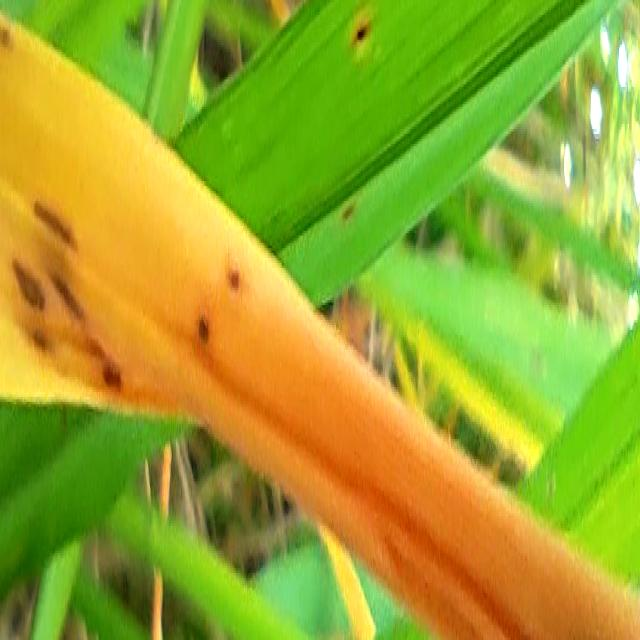NBS: (32, 196, 77, 253), (45, 271, 83, 320), (12, 258, 45, 311), (103, 362, 121, 391), (31, 327, 45, 352), (198, 313, 209, 344), (0, 27, 13, 51), (226, 274, 239, 295)
